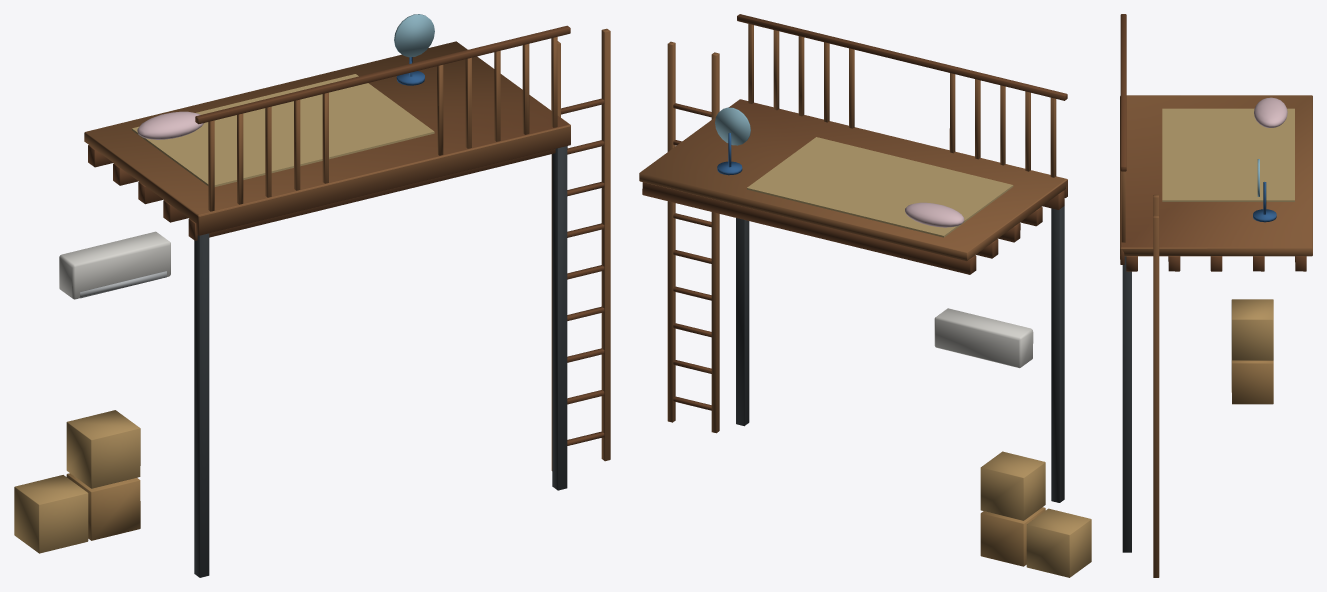
Rendered from gac_lung.glb.
The picture shows the model from 3 angles, left to right: view 1: azimuth 30°, elevation 25°; view 2: azimuth 150°, elevation 25°; view 3: azimuth 270°, elevation 25°; orthographic projection. The views are drawn at different scales.
Parts seen in each view (by area): view 1: w_san_gac, w_do_tren_gac, w_chong_thung, w_cot_gac, w_lan_can, w_thang_go, w_may_lanh_gac; view 2: w_san_gac, w_do_tren_gac, w_chong_thung, w_lan_can, w_thang_go, w_cot_gac, w_may_lanh_gac; view 3: w_san_gac, w_do_tren_gac, w_chong_thung, w_cot_gac, w_thang_go, w_lan_can.
Boxes of the visible parts, x1=… form: w_san_gac: x1=84, y1=41, x2=570, y2=240; w_do_tren_gac: x1=132, y1=14, x2=434, y2=186; w_chong_thung: x1=14, y1=410, x2=140, y2=553; w_cot_gac: x1=194, y1=146, x2=567, y2=577; w_lan_can: x1=195, y1=25, x2=570, y2=211; w_thang_go: x1=551, y1=28, x2=610, y2=470; w_may_lanh_gac: x1=59, y1=231, x2=170, y2=299; w_san_gac: x1=639, y1=99, x2=1067, y2=274; w_do_tren_gac: x1=715, y1=107, x2=1013, y2=237; w_chong_thung: x1=980, y1=451, x2=1091, y2=577; w_lan_can: x1=737, y1=14, x2=1067, y2=177; w_thang_go: x1=667, y1=41, x2=719, y2=433; w_cot_gac: x1=736, y1=206, x2=1064, y2=502; w_may_lanh_gac: x1=934, y1=308, x2=1033, y2=368; w_san_gac: x1=1120, y1=95, x2=1312, y2=271; w_do_tren_gac: x1=1162, y1=97, x2=1294, y2=222; w_chong_thung: x1=1231, y1=299, x2=1273, y2=404; w_cot_gac: x1=1122, y1=256, x2=1131, y2=552; w_thang_go: x1=1153, y1=194, x2=1159, y2=577; w_lan_can: x1=1120, y1=14, x2=1126, y2=242.
Size of the model in its own units: 4.22 by 3.54 by 1.6.
